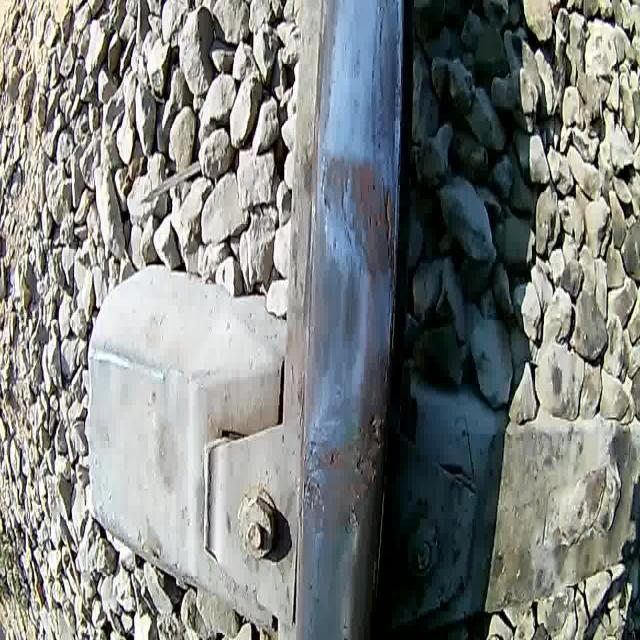Cracks: (380, 172, 394, 271)
Spallings: (354, 406, 386, 487)
Squats: (294, 405, 384, 560), (317, 144, 402, 290), (309, 252, 369, 386)
